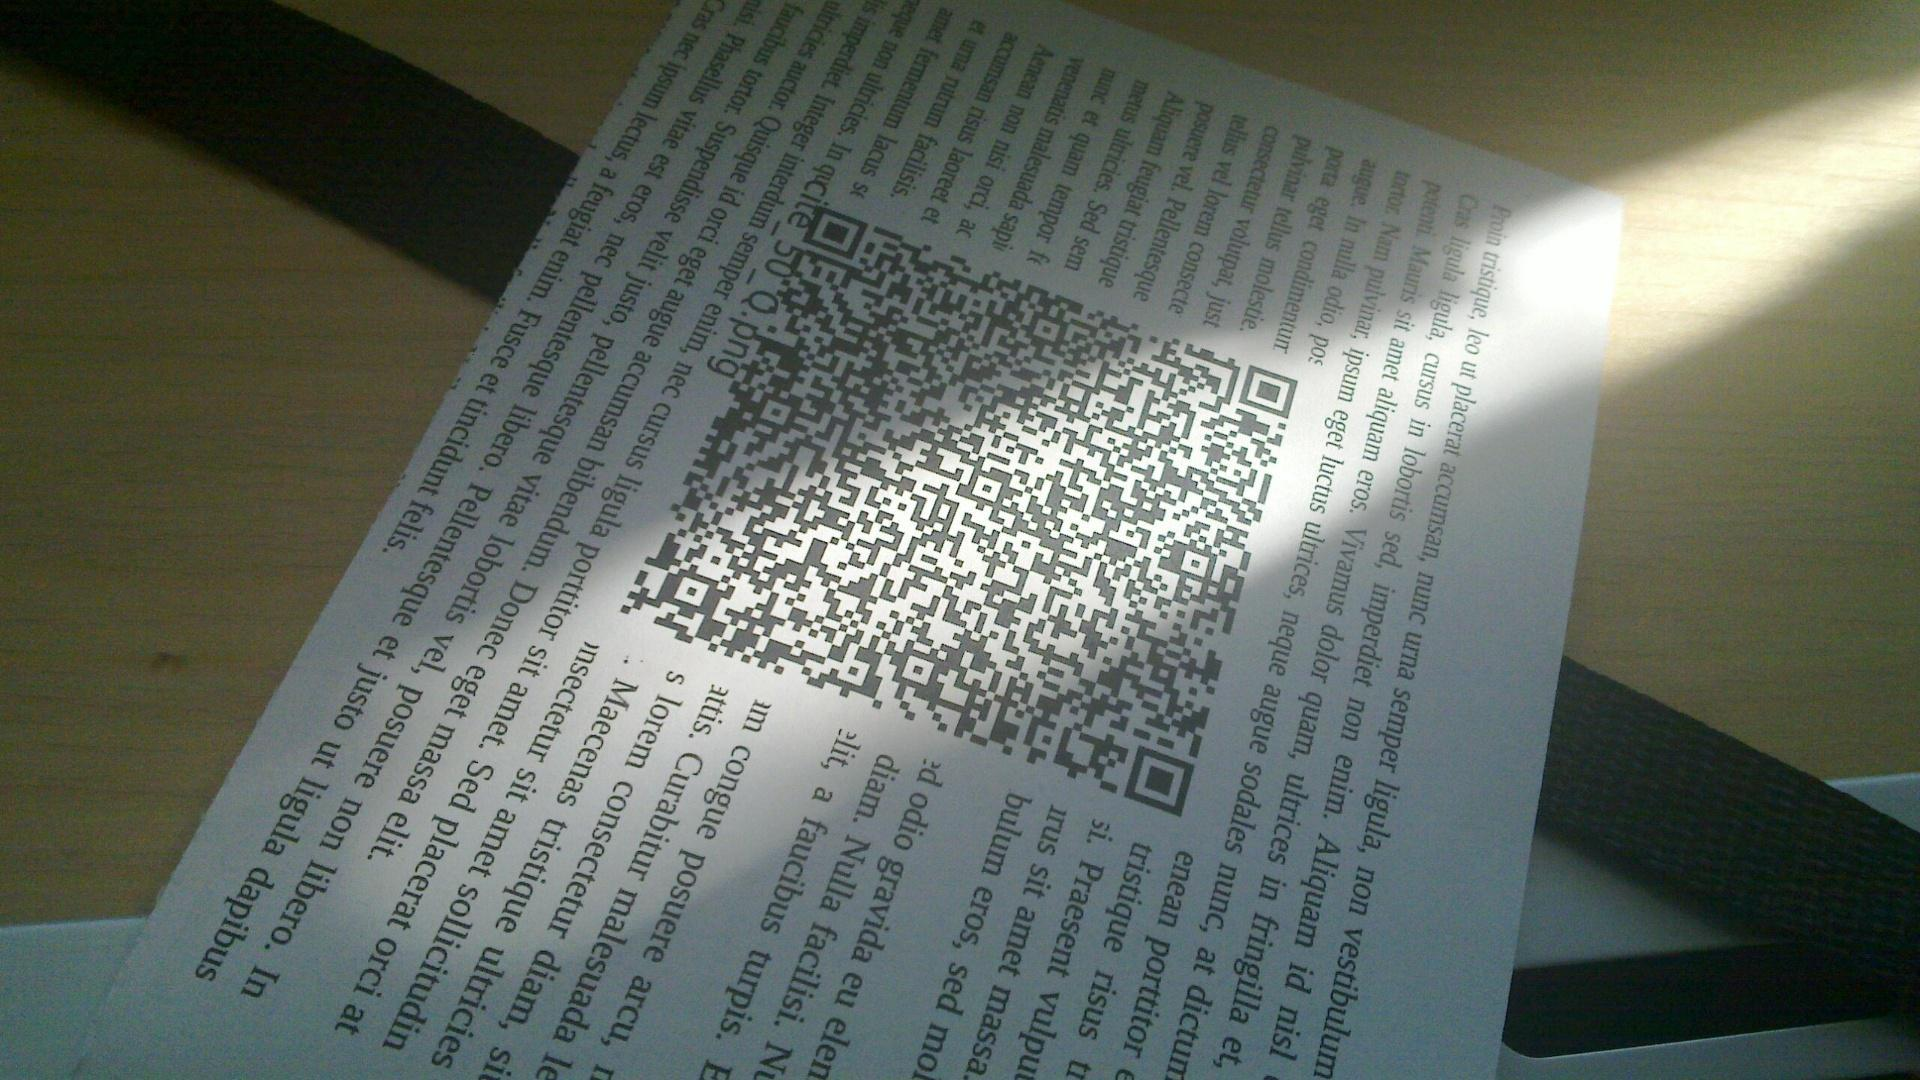Finder pattern: (1118, 744, 1200, 822), (799, 204, 874, 261), (1233, 360, 1302, 422)
